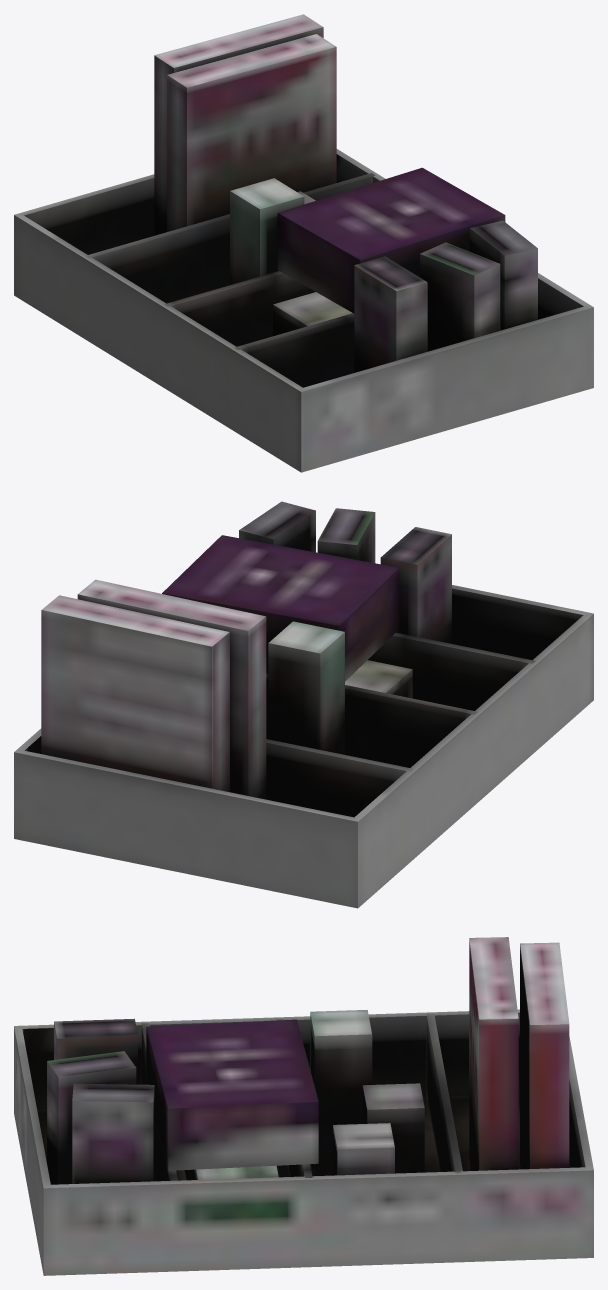
The model's file is MedBox_04.FBX.
3 renders of one model, top to bottom at view 1: azimuth 30°, elevation 25°; view 2: azimuth 150°, elevation 25°; view 3: azimuth 270°, elevation 25°, orthographic. The views are drawn at different scales.
Visible parts, largest first — view 1: MedBox_04; view 2: MedBox_04; view 3: MedBox_04.
Boxes of the visible parts, box(x1,y1,x2,y2) form: MedBox_04: box(14, 14, 593, 472); MedBox_04: box(14, 501, 593, 908); MedBox_04: box(14, 937, 593, 1275).
Size of the model in its own units: 33.72 by 19.71 by 45.84.
